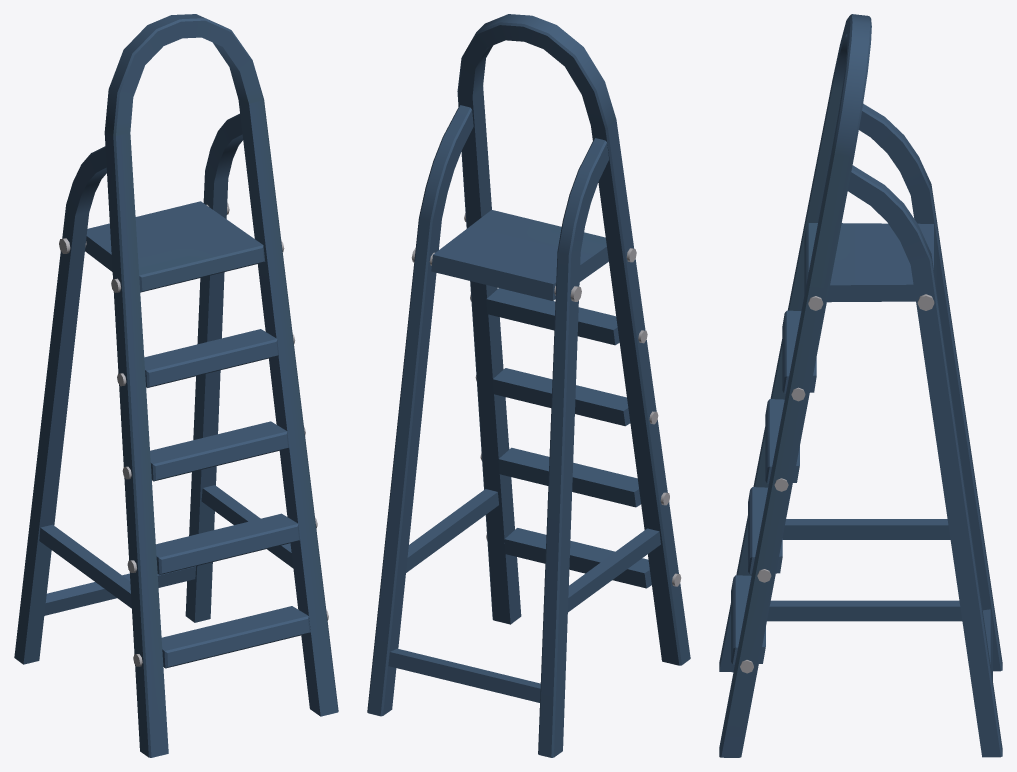
File: Ladder.fbx
3 views of the same model, side by side, from view 1: azimuth 30°, elevation 25°; view 2: azimuth 150°, elevation 25°; view 3: azimuth 270°, elevation 25° (orthographic). The views are drawn at different scales.
Parts seen in each view (by area): view 1: Ladder; view 2: Ladder; view 3: Ladder.
Part boxes in pixels (box(x1,y1,x2,y2)): Ladder: box(14, 14, 338, 757); Ladder: box(367, 14, 690, 757); Ladder: box(719, 14, 1002, 757).
Size of the model in its own units: 72.49 by 91.15 by 244.
